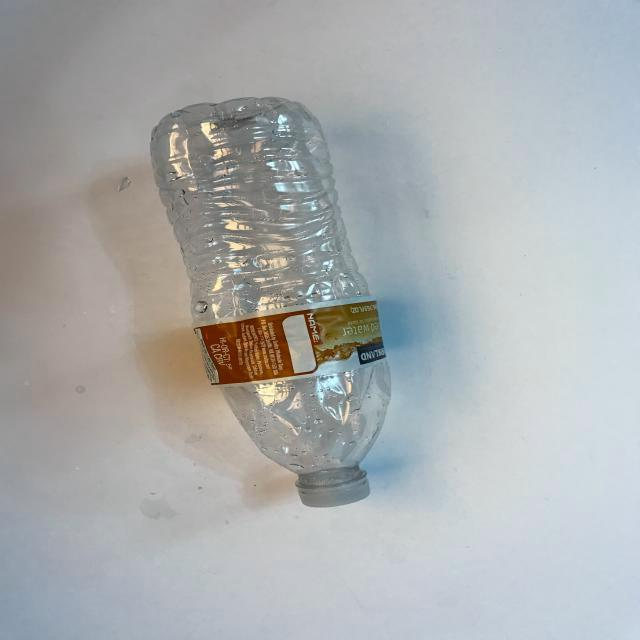plastic: (109, 83, 460, 519)
